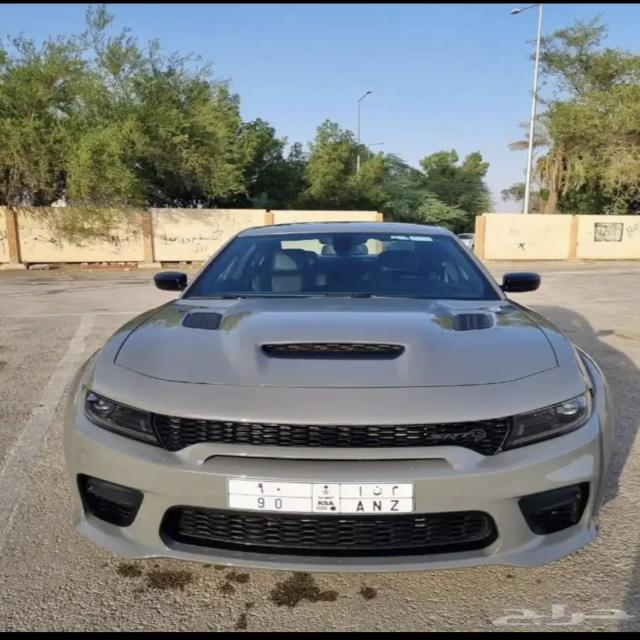license_plate: (224, 476, 420, 514)
